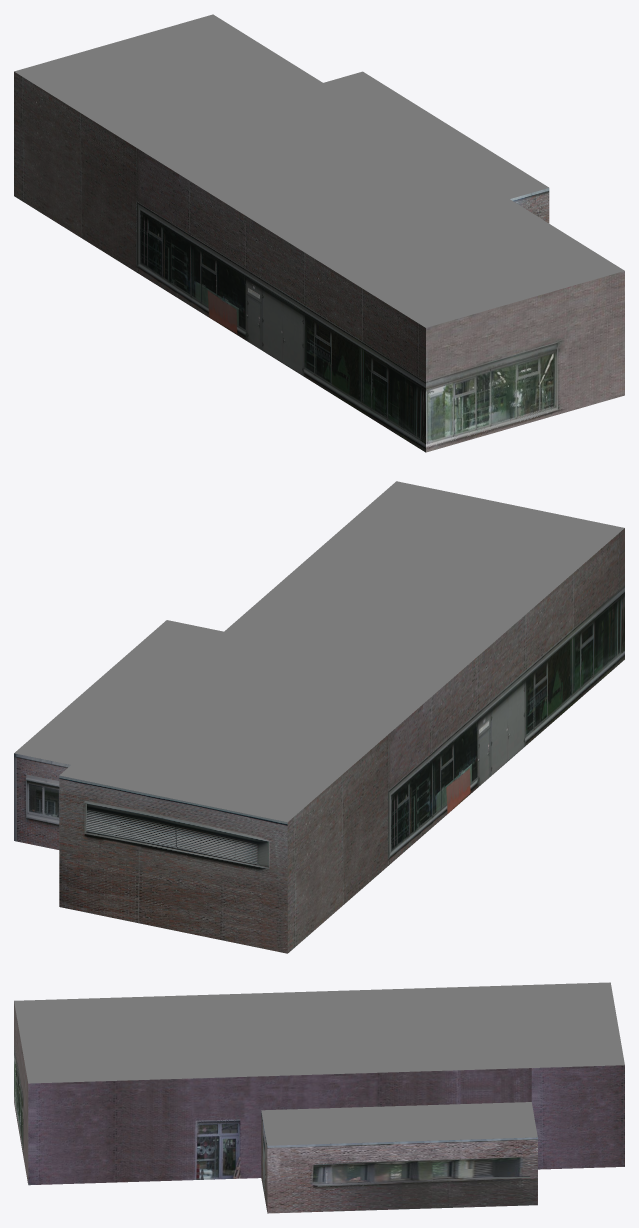
File: Textilmaschinenhalle.gltf
3 views of the same model, one above another, from view 1: azimuth 30°, elevation 25°; view 2: azimuth 150°, elevation 25°; view 3: azimuth 270°, elevation 25° (orthographic). The views are drawn at different scales.
Visible parts, largest first — view 1: Dach.1; view 2: Dach.1; view 3: Dach.1.
Part boxes in pixels (<box>): Dach.1: <box>14,14,624,452</box>; Dach.1: <box>14,481,624,953</box>; Dach.1: <box>14,982,624,1213</box>.
Size of the model in its own units: 16.38 by 6 by 32.68.
9 materials, 8 textured.
